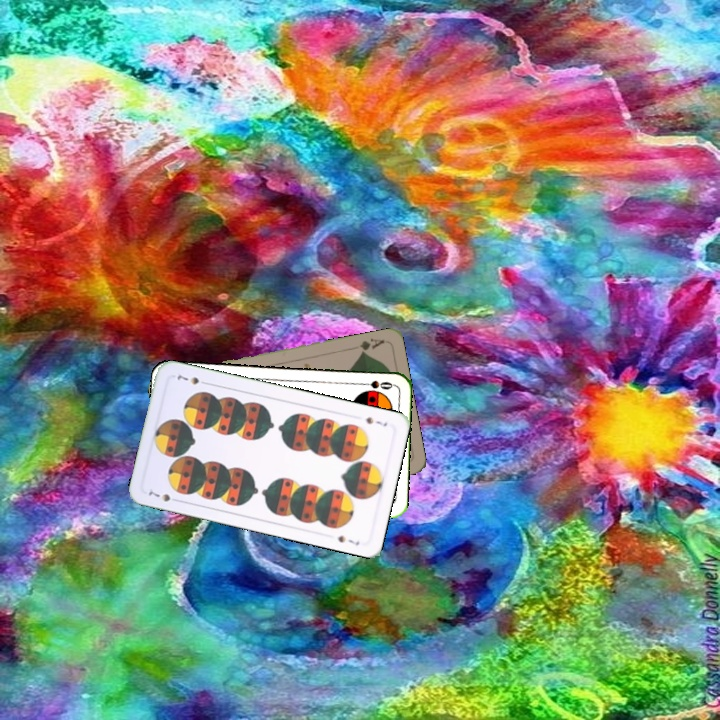GA: (347, 334, 387, 356)
S7: (144, 487, 183, 505), (362, 413, 390, 429)
SO: (355, 377, 395, 392)
